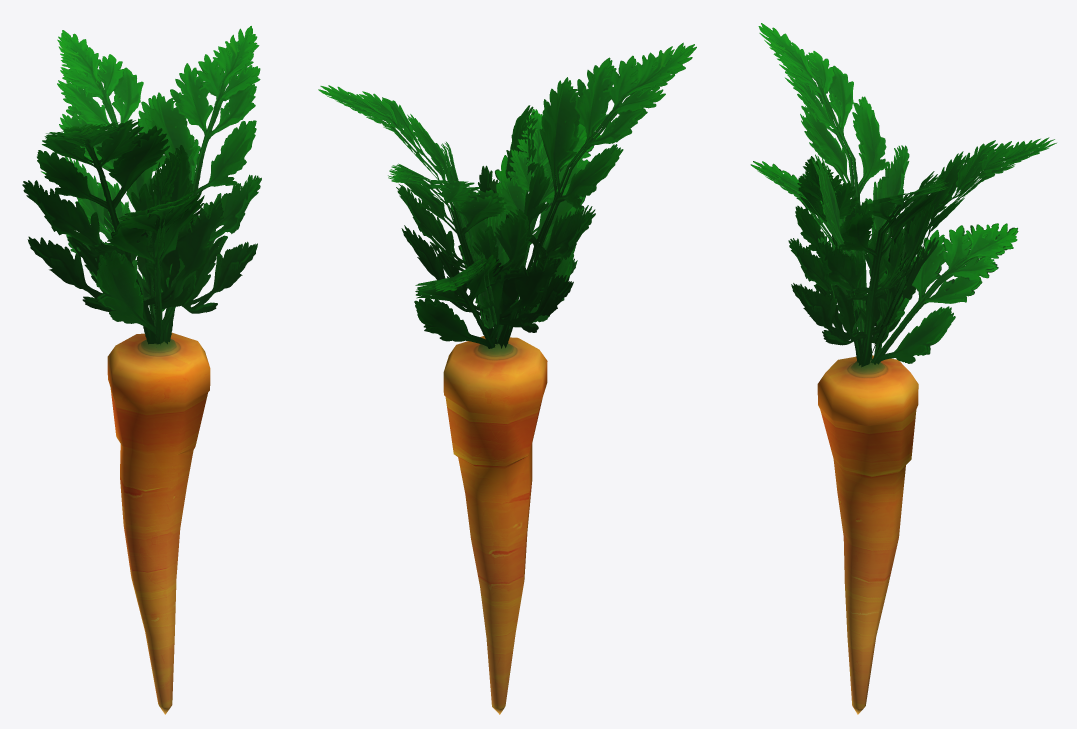
Rendered from SE_Carrot_01.fbx.
3 views of the same model, side by side, from view 1: azimuth 30°, elevation 25°; view 2: azimuth 150°, elevation 25°; view 3: azimuth 270°, elevation 25° (orthographic). The views are drawn at different scales.
Visible parts, largest first — view 1: SE_Carrot_01; view 2: SE_Carrot_01; view 3: SE_Carrot_01.
Part boxes in pixels (<box>): SE_Carrot_01: <box>22,26,261,714</box>; SE_Carrot_01: <box>318,42,696,714</box>; SE_Carrot_01: <box>750,23,1056,714</box>.
Bounding box in the file's own units: 4.98 × 10.06 × 4.61.
